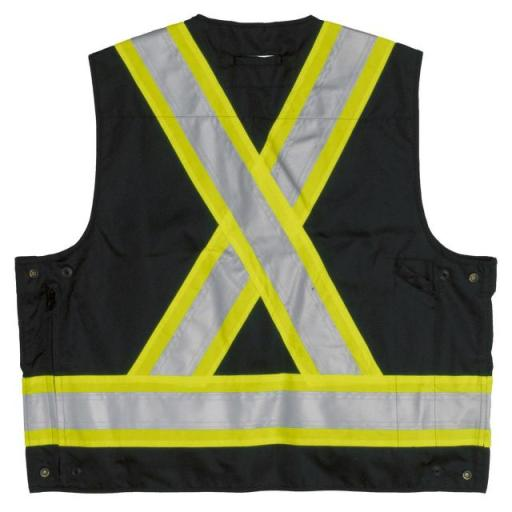vest: (14, 2, 509, 512)
